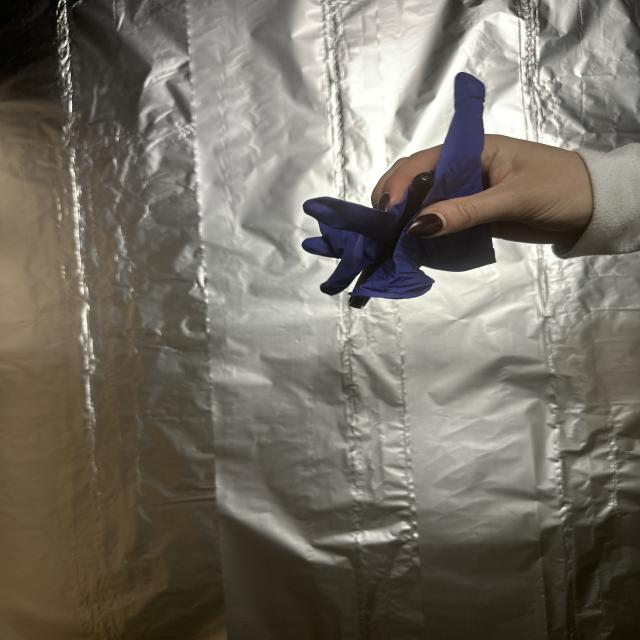glove_not_fitted: (288, 76, 640, 320)
